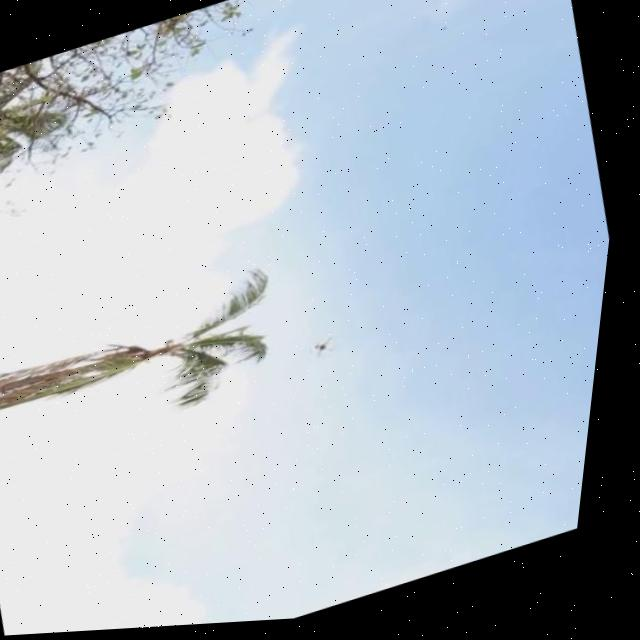drones: (302, 332, 354, 367)
